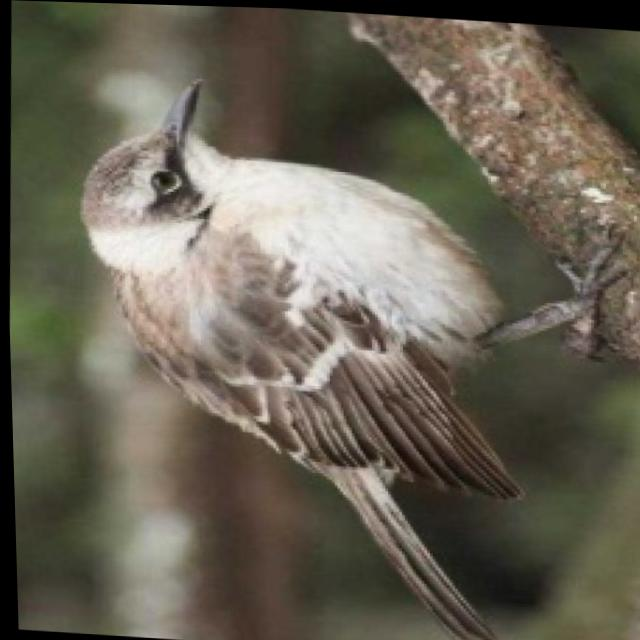sparrow: (55, 69, 640, 640)
